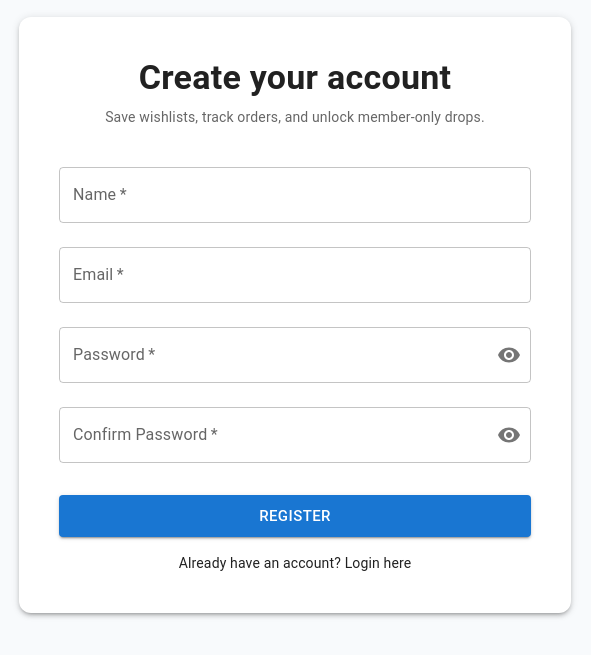
<Register /> › renders single server error message
This screenshot has width=591, height=655.
Type "Bob" into the field labelled "Name *" at (295,195), box [59, 167, 531, 223]
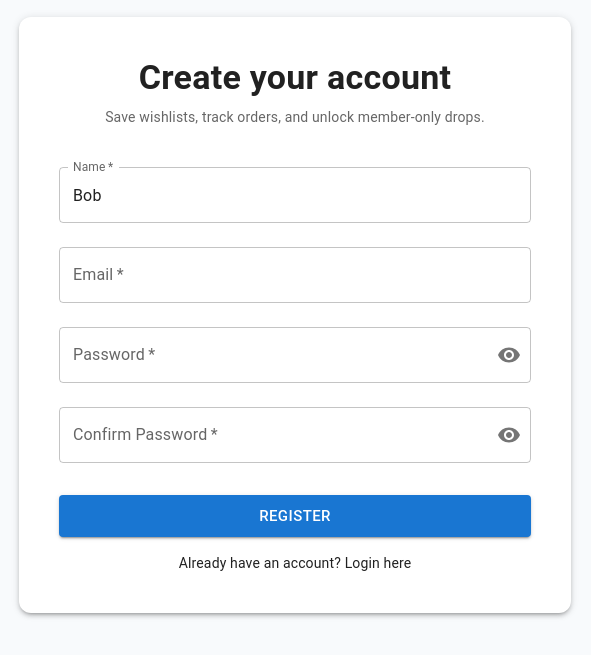
Type "b@c.com" into the field labelled "Email *" at (295,275), box [59, 247, 531, 303]
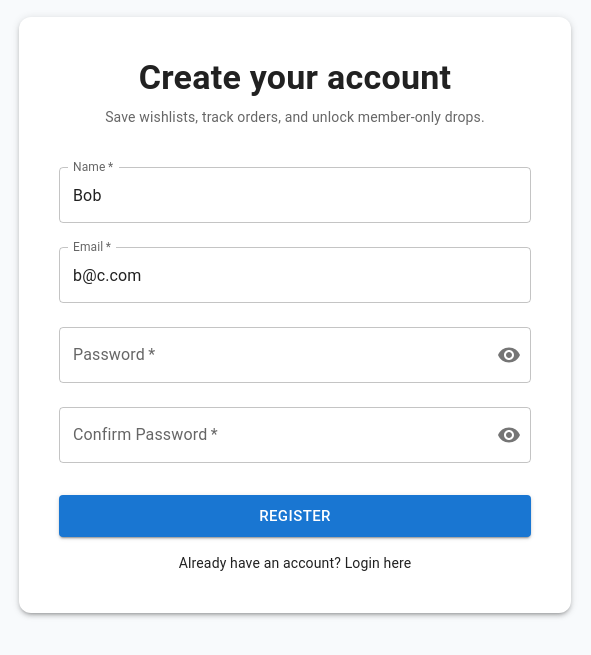
Type "pw" into the password field labelled "Password *" at (270,355), box [59, 327, 481, 383]
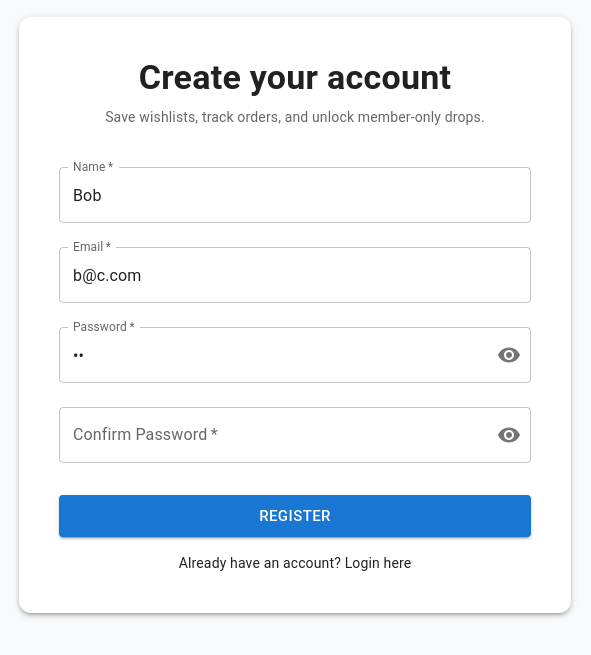
Type "pw" into the password field labelled "Confirm Password *" at (270,435), box [59, 407, 481, 463]
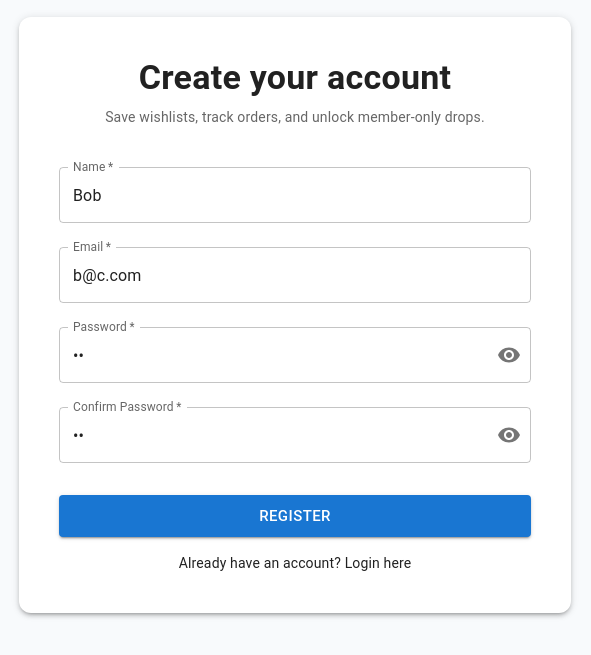
Click the button "Register" at (295,516), box [59, 495, 531, 537]
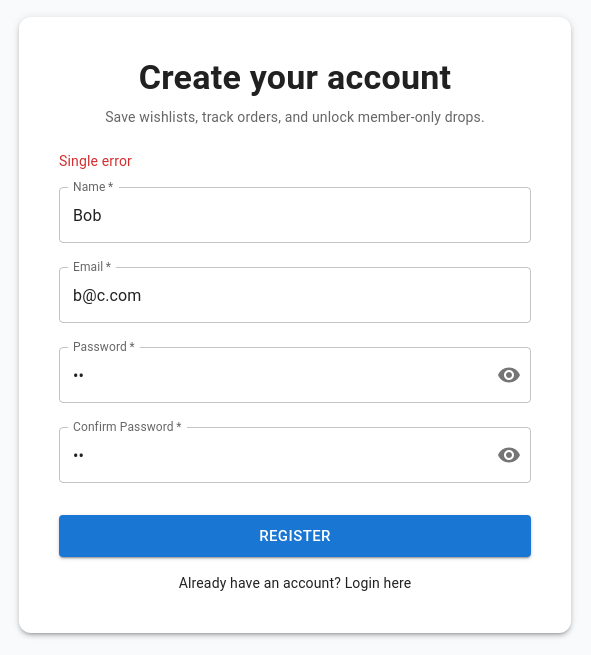
Now the text "Single error" is shown, box [59, 153, 132, 169]
